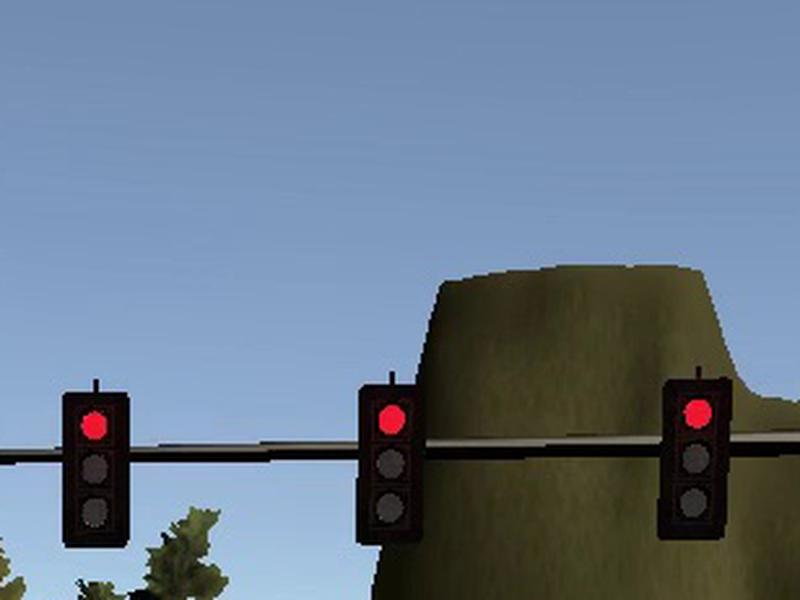Red: (658, 378, 733, 540), (354, 384, 422, 544), (63, 392, 130, 549)
